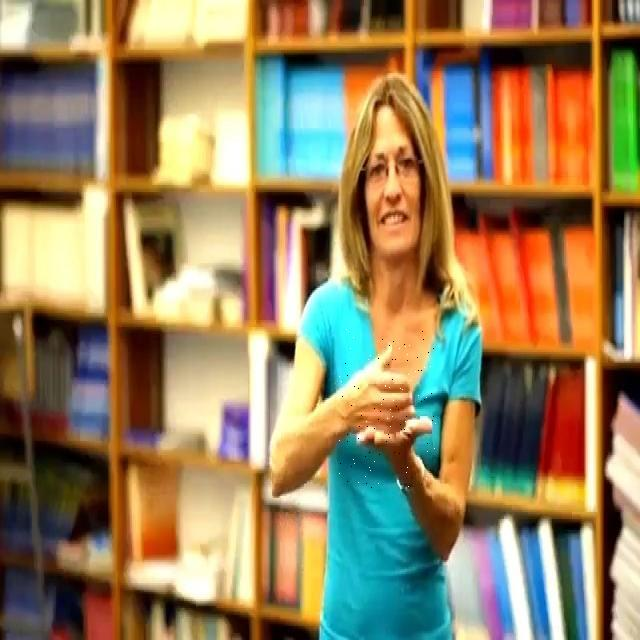cup: (336, 328, 436, 489)
